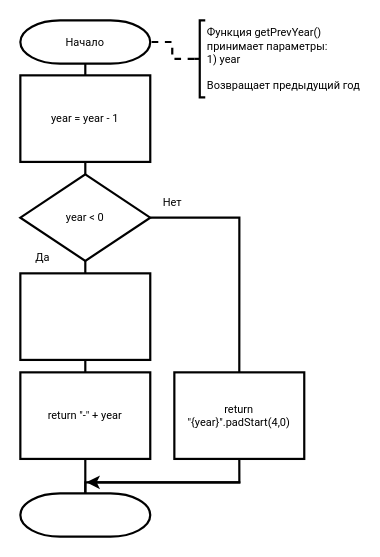
The diagram is 380 pixels wide and 557 high, and some of its shapes have lost their labels. The shapes that lost their labels are listed below. From the top down, each one's centre as x and y in pixels, then its label:
[85,316]: year = "{-year}".padStart(6,0)
[85,514]: Конец
